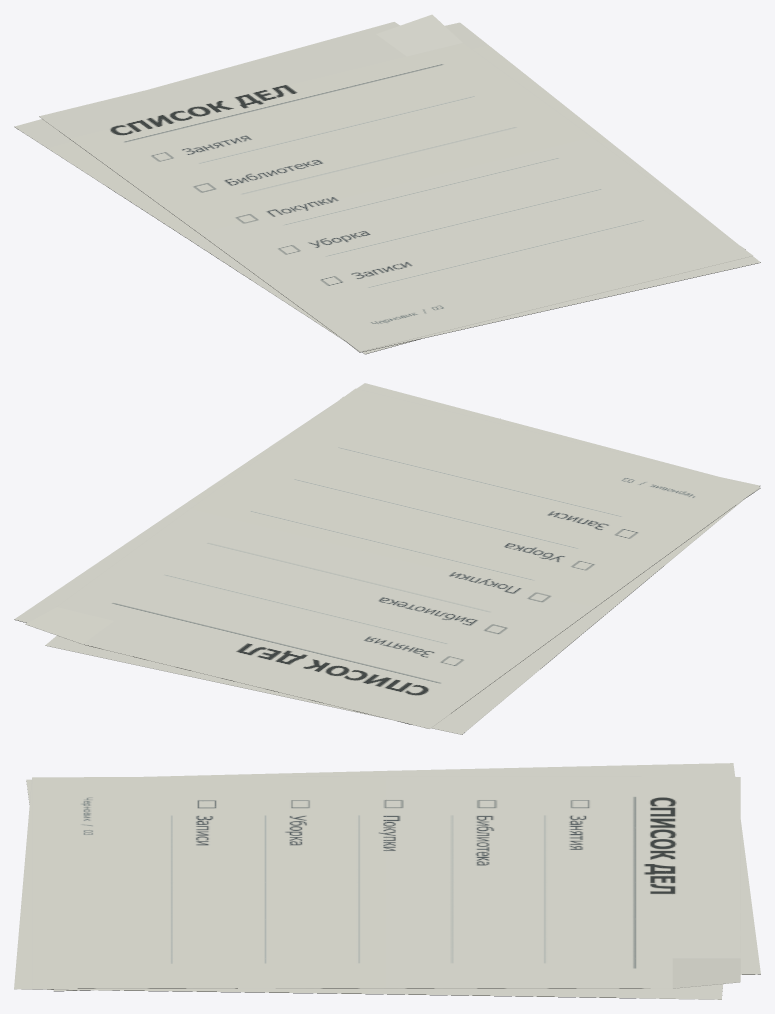
The model's file is Papers_LOD0.fbx.
3 views of the same model, one above another, from view 1: azimuth 30°, elevation 25°; view 2: azimuth 150°, elevation 25°; view 3: azimuth 270°, elevation 25° (orthographic). The views are drawn at different scales.
Visible parts, largest first — view 1: Body_LOD0; view 2: Body_LOD0; view 3: Body_LOD0.
Boxes of the visible parts, left/top/right/bottom form: Body_LOD0: left=14, top=14, right=760, bottom=354; Body_LOD0: left=14, top=383, right=760, bottom=734; Body_LOD0: left=14, top=763, right=760, bottom=999.
Size of the model in its own units: 0.2353 by 0.00382 by 0.3132.
